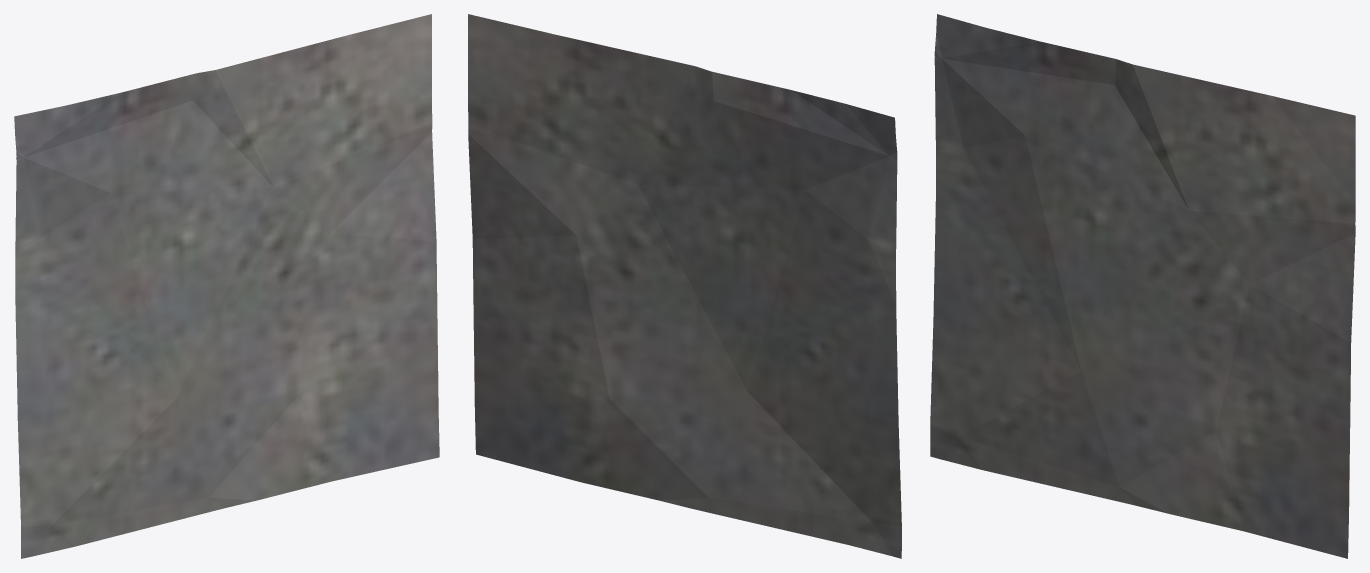
File: Tile_+002_+007_L24_0031001.obj
3 renders of one model, left to right at view 1: azimuth 30°, elevation 25°; view 2: azimuth 150°, elevation 25°; view 3: azimuth 330°, elevation 25°, orthographic.
Size of the model in its own units: 0.9531 by 0.9531 by 0.037.
1 material, 1 textured.
